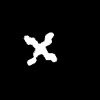single_crochet: (24, 33, 56, 64)
